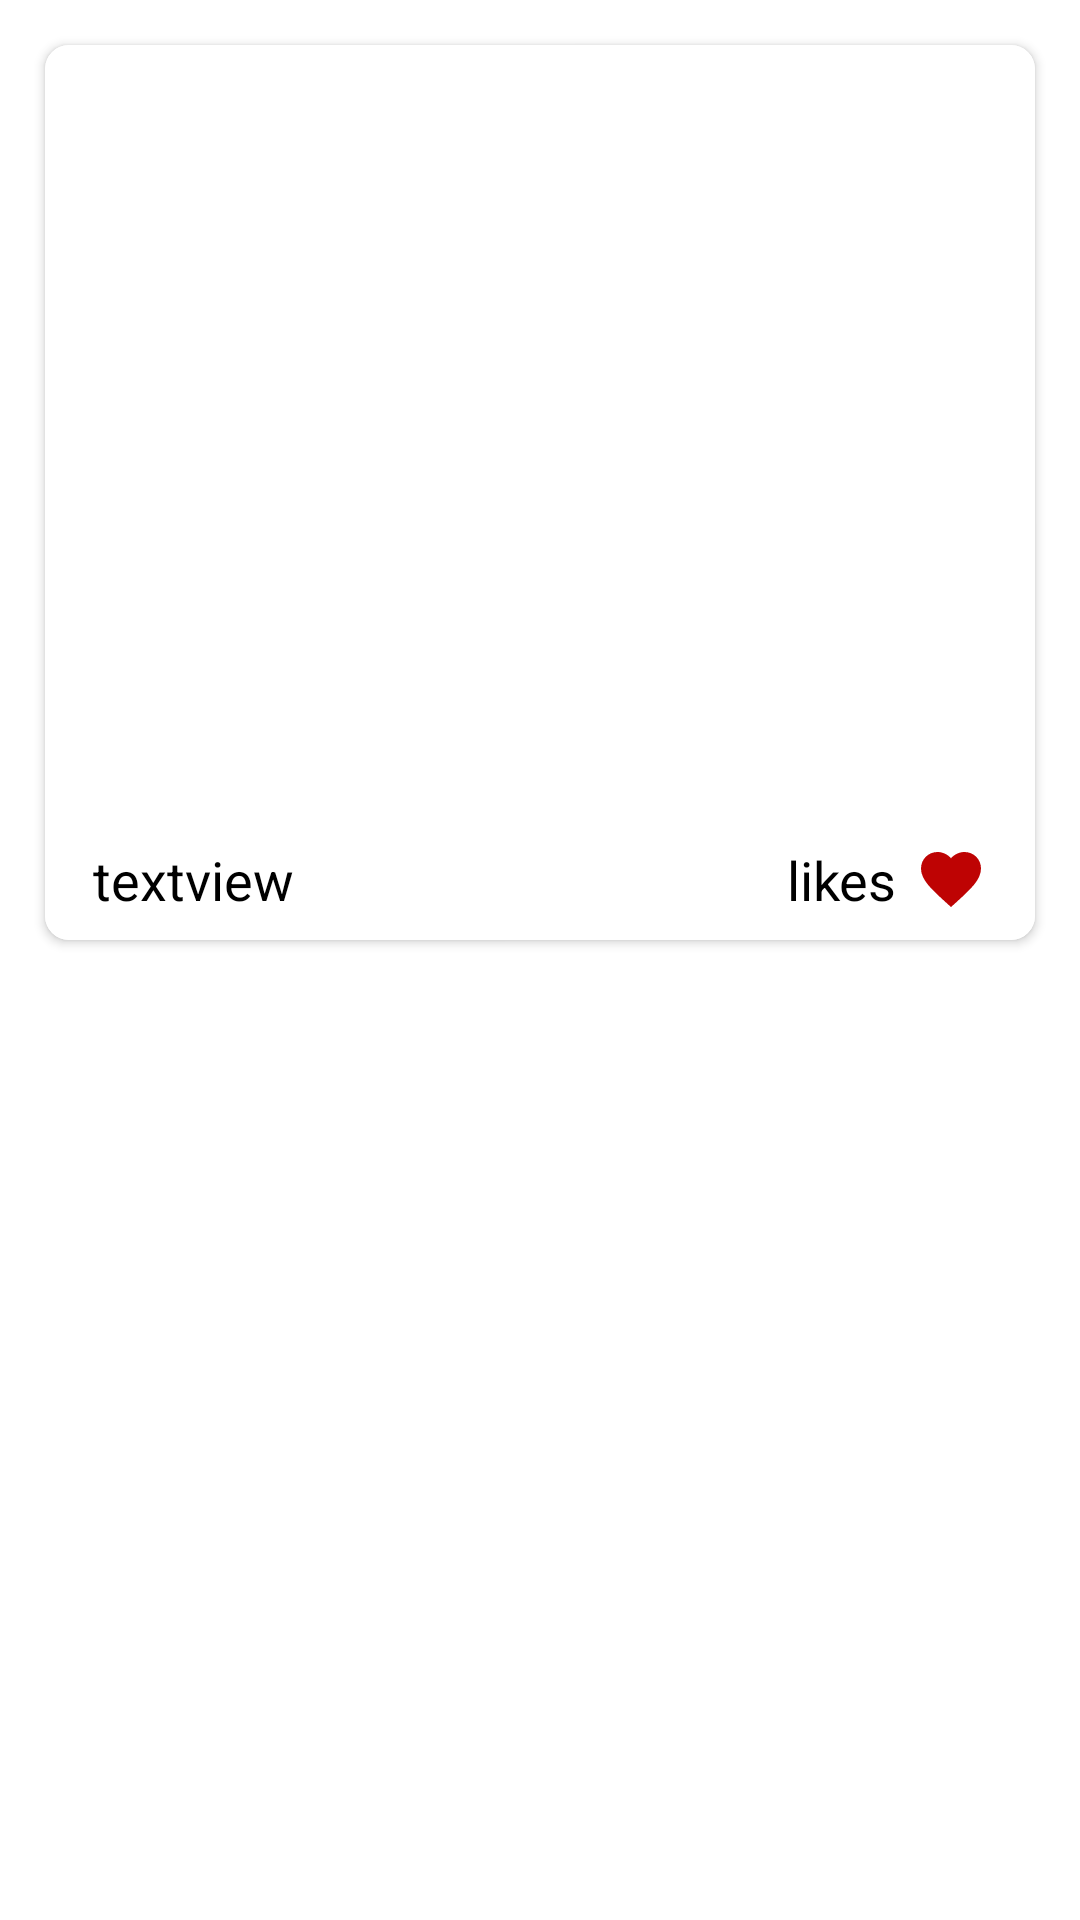

Where to tap for icons on this 1080*1920 app screen, as [x,y]:
heart: [951,879]
